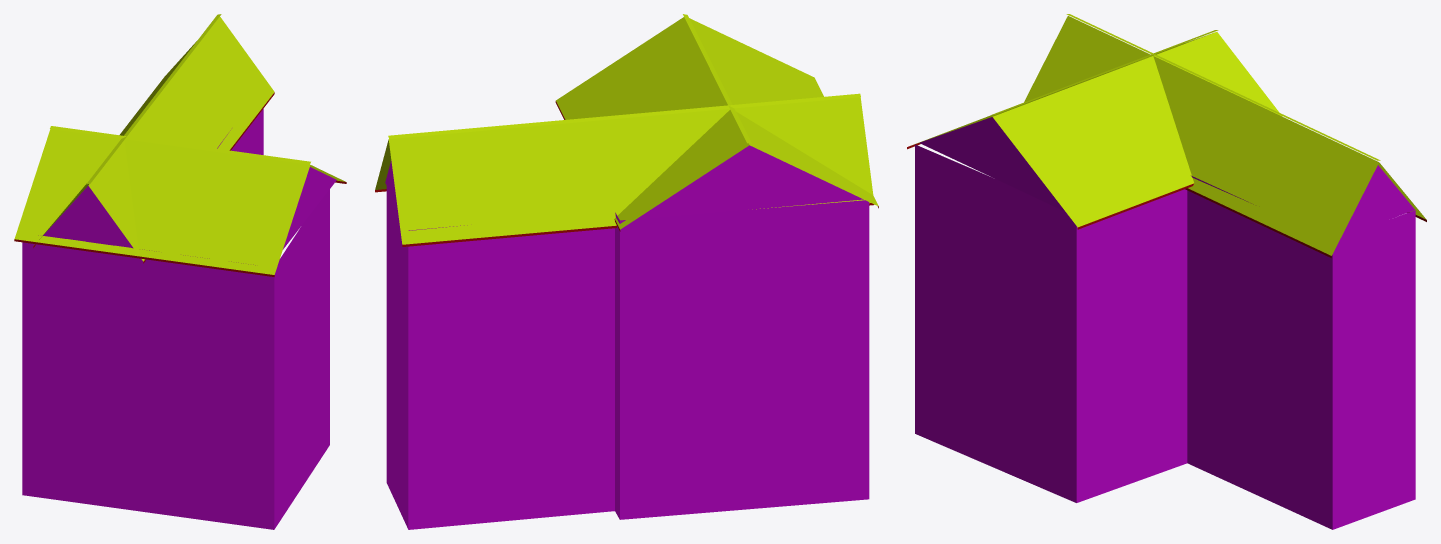
File: bgj_4.glb
The picture shows the model from 3 angles, left to right: view 1: azimuth 30°, elevation 25°; view 2: azimuth 150°, elevation 25°; view 3: azimuth 270°, elevation 25°; orthographic projection. The views are drawn at different scales.
Parts seen in each view (by area): view 1: bgj_4; view 2: bgj_4; view 3: bgj_4.
Boxes of the visible parts, bbox=[...] form: bgj_4: bbox=[14, 14, 346, 529]; bgj_4: bbox=[375, 14, 878, 529]; bgj_4: bbox=[907, 14, 1426, 529].
Size of the model in its own units: 21.52 by 18.99 by 25.03.
